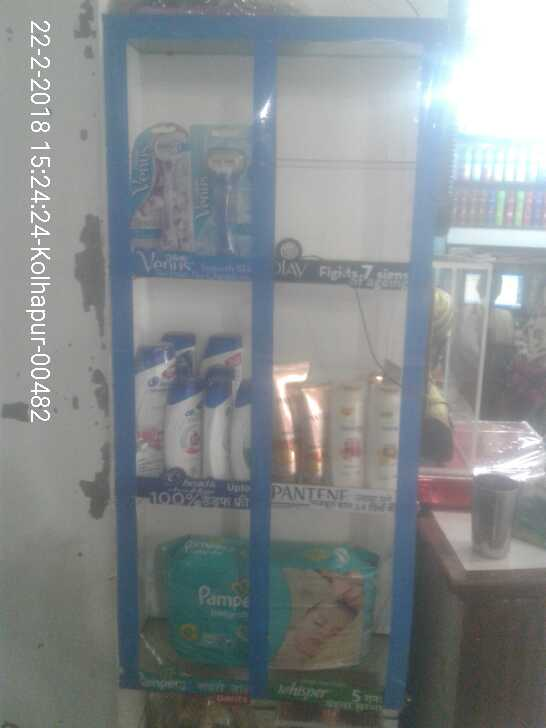venus: (191, 124, 254, 253), (129, 123, 191, 253)
